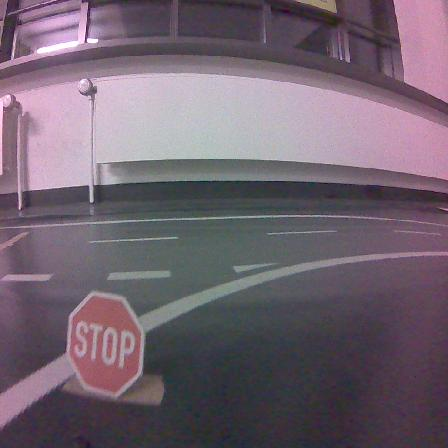STOP: (67, 292, 144, 397)
